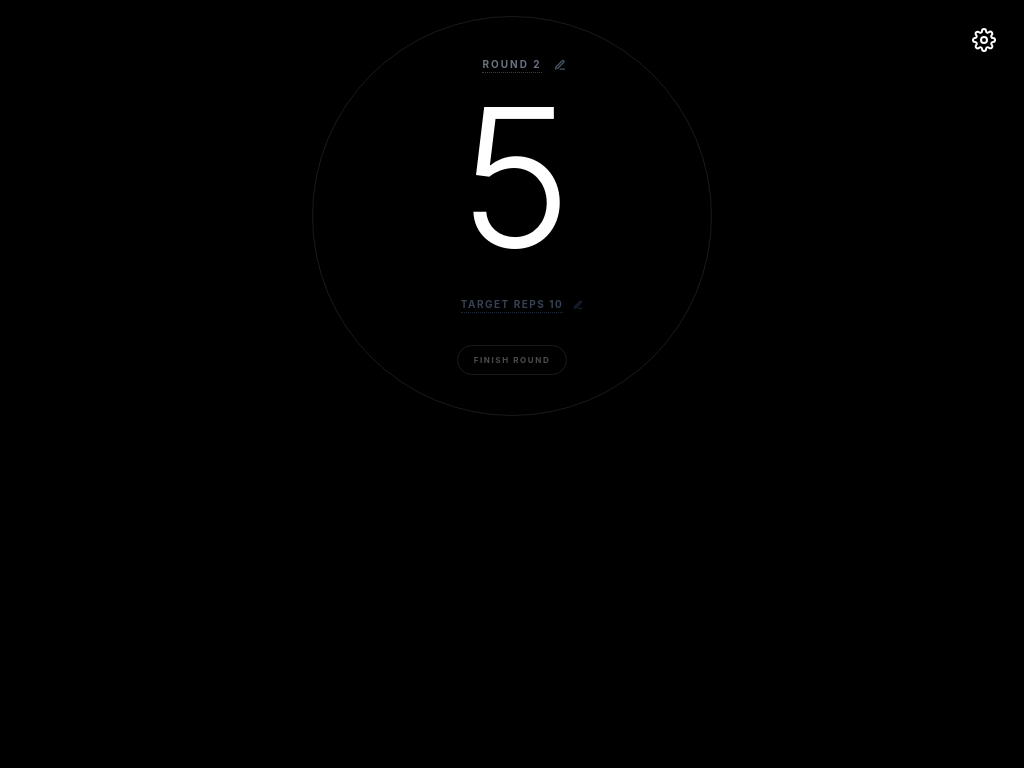
Test: Counter Component › opens QuickAdjust when round or target text is clicked
The image size is (1024, 768).
Check: the text "DONE" is not shown
# Click on Round text
Click the button "Round 2". click: (512, 65)
box: [474,49,550,81]
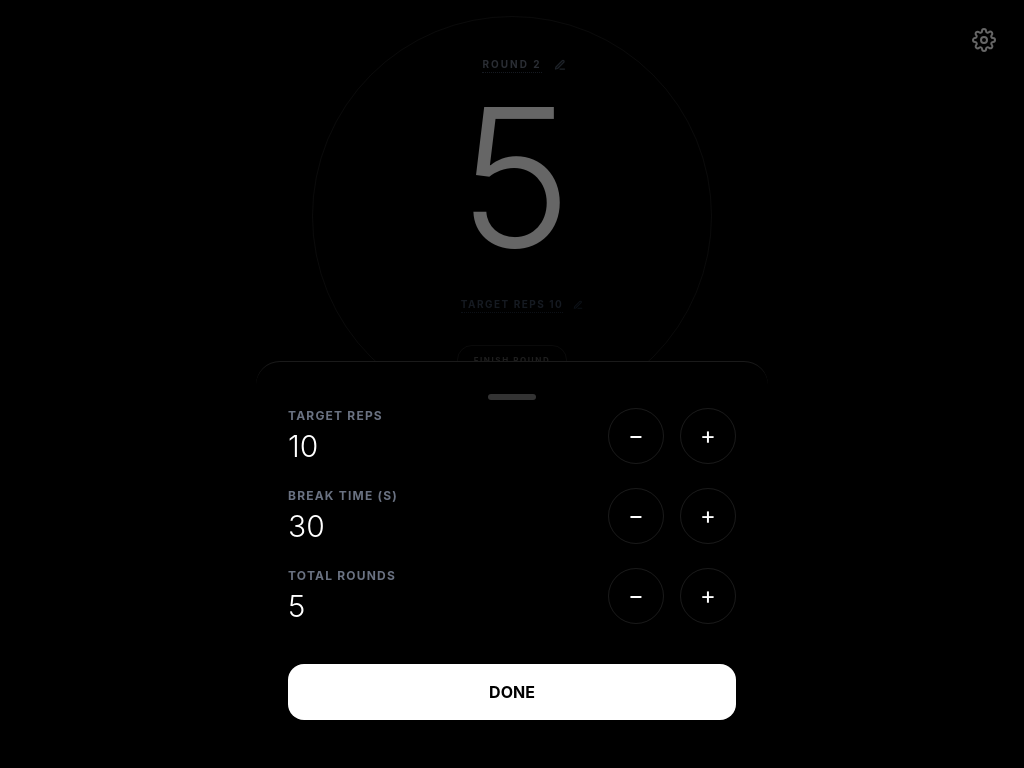
Check: the button "DONE" is shown, box [288,664,736,720]
